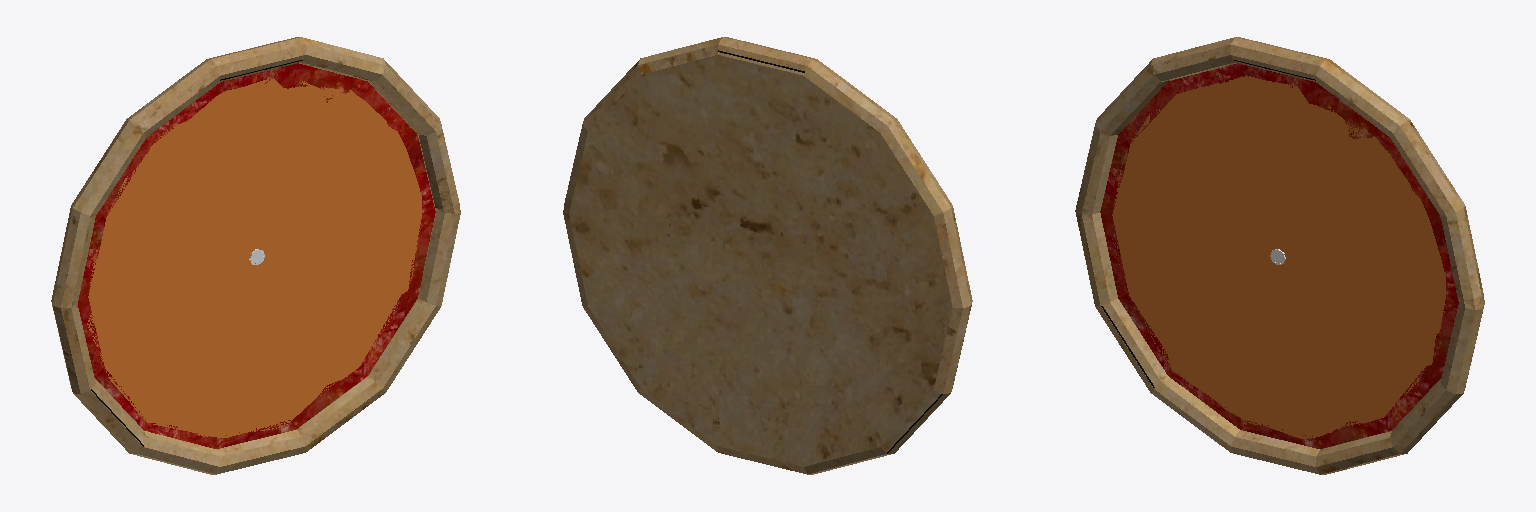
3 renders of one model, left to right at view 1: azimuth 30°, elevation 25°; view 2: azimuth 150°, elevation 25°; view 3: azimuth 330°, elevation 25°, orthographic.
Parts seen in each view (by area): view 1: Mesh13 Group13 Group_5_1 Model, Mesh12 Group12 Group_5_1 Model, Mesh14 Group14 Group_5_1 Model, Mesh3 Group3 Group_5_1 Model, Mesh4 Group4 Group_5_1 Model, Mesh11 Group11 Group_5_1 Model, Mesh10 Group10 Group_5_1 Model, Mesh6 Group6 Group_5_1 Model, Mesh9 Group9 Group_5_1 Model, Mesh8 Group8 Group_5_1 Model, Mesh2 Group2 Group_5_1 Model, Mesh1 Group1 Group_5_1 Model (+2 smaller); view 2: Mesh13 Group13 Group_5_1 Model, Mesh12 Group12 Group_5_1 Model, Mesh3 Group3 Group_5_1 Model, Mesh10 Group10 Group_5_1 Model, Mesh2 Group2 Group_5_1 Model, Mesh8 Group8 Group_5_1 Model, Mesh5 Group5 Group_5_1 Model, Mesh6 Group6 Group_5_1 Model, Mesh7 Group7 Group_5_1 Model, Mesh1 Group1 Group_5_1 Model, Mesh9 Group9 Group_5_1 Model, Mesh4 Group4 Group_5_1 Model (+2 smaller); view 3: Mesh6 Group6 Group_5_1 Model, Mesh8 Group8 Group_5_1 Model, Mesh1 Group1 Group_5_1 Model, Mesh5 Group5 Group_5_1 Model, Mesh7 Group7 Group_5_1 Model, Mesh10 Group10 Group_5_1 Model, Mesh2 Group2 Group_5_1 Model, Mesh4 Group4 Group_5_1 Model, Mesh14 Group14 Group_5_1 Model, Mesh9 Group9 Group_5_1 Model, Mesh12 Group12 Group_5_1 Model, Mesh11 Group11 Group_5_1 Model (+2 smaller).
Boxes of the visible parts, x1=… form: Mesh13 Group13 Group_5_1 Model: x1=71, y1=119, x2=251, y2=254; Mesh12 Group12 Group_5_1 Model: x1=127, y1=59, x2=253, y2=251; Mesh14 Group14 Group_5_1 Model: x1=262, y1=258, x2=440, y2=391; Mesh3 Group3 Group_5_1 Model: x1=51, y1=206, x2=250, y2=307; Mesh4 Group4 Group_5_1 Model: x1=265, y1=212, x2=460, y2=305; Mesh11 Group11 Group_5_1 Model: x1=258, y1=263, x2=385, y2=451; Mesh10 Group10 Group_5_1 Model: x1=209, y1=37, x2=305, y2=250; Mesh6 Group6 Group_5_1 Model: x1=260, y1=58, x2=441, y2=249; Mesh9 Group9 Group_5_1 Model: x1=216, y1=265, x2=305, y2=473; Mesh8 Group8 Group_5_1 Model: x1=257, y1=37, x2=385, y2=249; Mesh2 Group2 Group_5_1 Model: x1=52, y1=258, x2=249, y2=393; Mesh1 Group1 Group_5_1 Model: x1=263, y1=125, x2=460, y2=253; Mesh13 Group13 Group_5_1 Model: x1=761, y1=119, x2=952, y2=260; Mesh12 Group12 Group_5_1 Model: x1=761, y1=59, x2=896, y2=259; Mesh3 Group3 Group_5_1 Model: x1=763, y1=206, x2=972, y2=307; Mesh10 Group10 Group_5_1 Model: x1=718, y1=37, x2=814, y2=258; Mesh2 Group2 Group_5_1 Model: x1=762, y1=261, x2=971, y2=393; Mesh8 Group8 Group_5_1 Model: x1=638, y1=37, x2=760, y2=259; Mesh5 Group5 Group_5_1 Model: x1=761, y1=261, x2=950, y2=453; Mesh6 Group6 Group_5_1 Model: x1=582, y1=58, x2=760, y2=260; Mesh7 Group7 Group_5_1 Model: x1=761, y1=262, x2=890, y2=474; Mesh1 Group1 Group_5_1 Model: x1=563, y1=125, x2=759, y2=260; Mesh9 Group9 Group_5_1 Model: x1=718, y1=263, x2=806, y2=473; Mesh4 Group4 Group_5_1 Model: x1=563, y1=213, x2=758, y2=305; Mesh6 Group6 Group_5_1 Model: x1=1284, y1=119, x2=1464, y2=254; Mesh8 Group8 Group_5_1 Model: x1=1281, y1=59, x2=1408, y2=251; Mesh1 Group1 Group_5_1 Model: x1=1285, y1=206, x2=1484, y2=309; Mesh5 Group5 Group_5_1 Model: x1=1095, y1=258, x2=1272, y2=392; Mesh7 Group7 Group_5_1 Model: x1=1151, y1=263, x2=1277, y2=452; Mesh10 Group10 Group_5_1 Model: x1=1231, y1=37, x2=1326, y2=249; Mesh2 Group2 Group_5_1 Model: x1=1075, y1=211, x2=1270, y2=305; Mesh4 Group4 Group_5_1 Model: x1=1286, y1=258, x2=1483, y2=393; Mesh14 Group14 Group_5_1 Model: x1=1284, y1=260, x2=1463, y2=453; Mesh9 Group9 Group_5_1 Model: x1=1231, y1=265, x2=1319, y2=474; Mesh12 Group12 Group_5_1 Model: x1=1151, y1=37, x2=1277, y2=248; Mesh11 Group11 Group_5_1 Model: x1=1282, y1=263, x2=1403, y2=474.
Bounding box in the file's own units: 21.8 × 21.29 × 1.27.
4 materials, 2 textured.